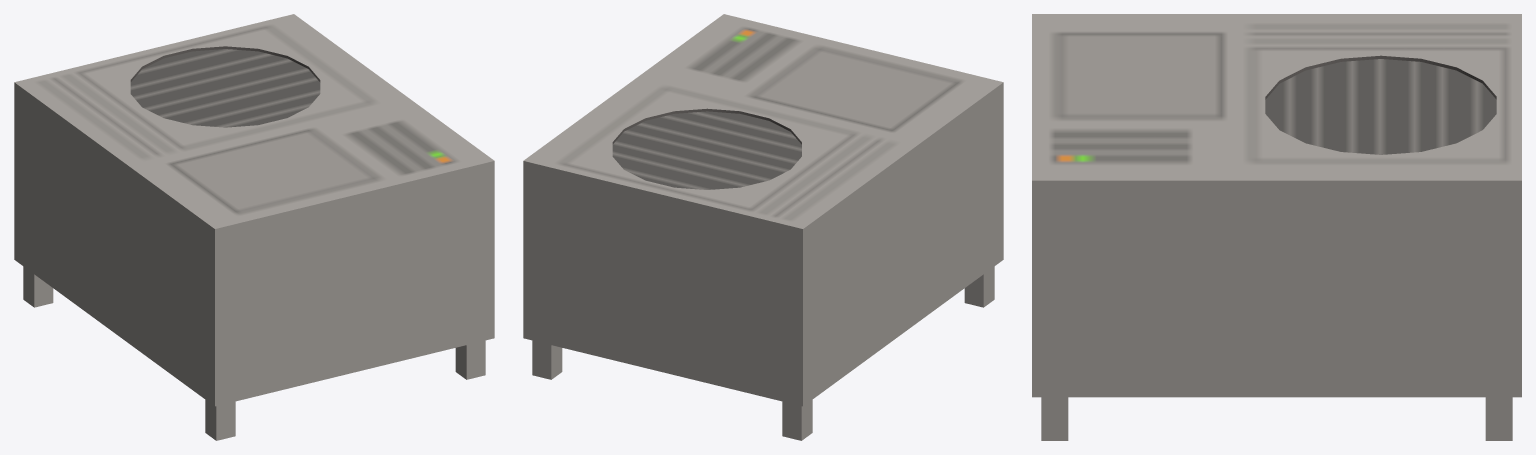
Rendered from airconditior.fbx.
The picture shows the model from 3 angles, left to right: view 1: azimuth 30°, elevation 25°; view 2: azimuth 150°, elevation 25°; view 3: azimuth 270°, elevation 25°; orthographic projection. The views are drawn at different scales.
Parts seen in each view (by area): view 1: sptp_air_conditioning_01; view 2: sptp_air_conditioning_01; view 3: sptp_air_conditioning_01.
Boxes of the visible parts, x1,y1,x2,y2 form: sptp_air_conditioning_01: (14,14,494,440); sptp_air_conditioning_01: (523,14,1003,440); sptp_air_conditioning_01: (1032,14,1521,440).
Bounding box in the file's own units: 102 × 75.45 × 127.
Materials: 1 (1 with a texture image).
